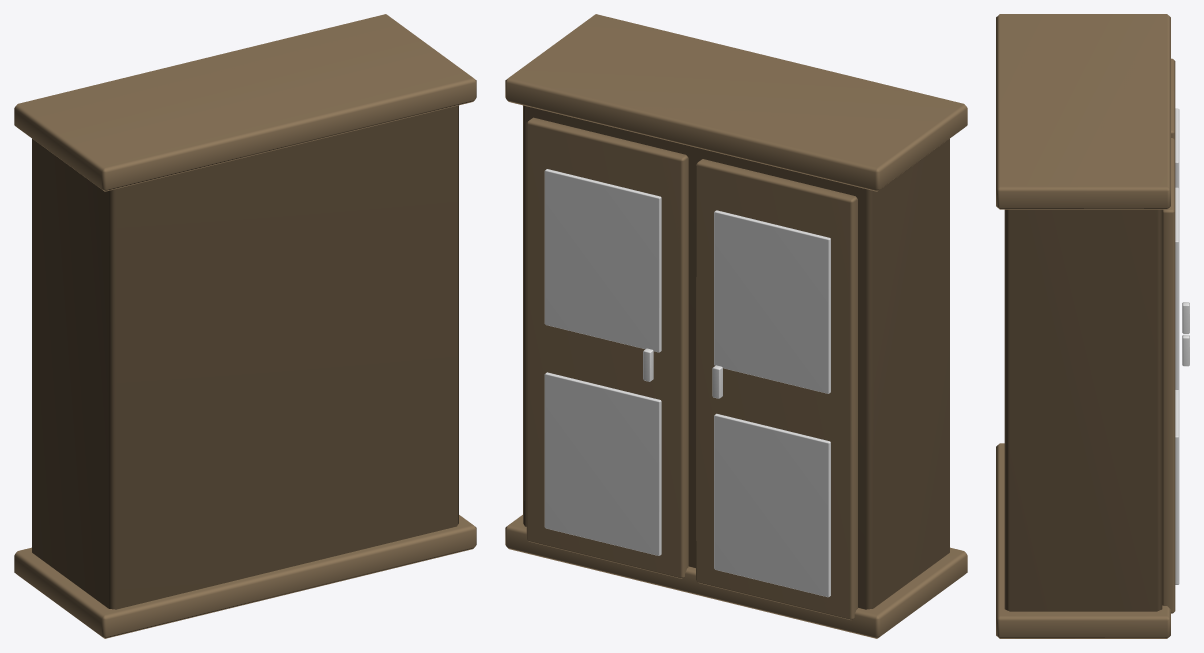
Rendered from Wardrobe62.fbx.
The picture shows the model from 3 angles, left to right: view 1: azimuth 30°, elevation 25°; view 2: azimuth 150°, elevation 25°; view 3: azimuth 270°, elevation 25°; orthographic projection. The views are drawn at different scales.
Parts seen in each view (by area): view 1: Wardrobe62; view 2: Wardrobe62; view 3: Wardrobe62.
Part boxes in pixels (x1,y1,x2,y2): Wardrobe62: (14, 14, 476, 638); Wardrobe62: (505, 14, 967, 638); Wardrobe62: (996, 14, 1189, 638).
Size of the model in its own units: 195 by 235 by 90.85.
